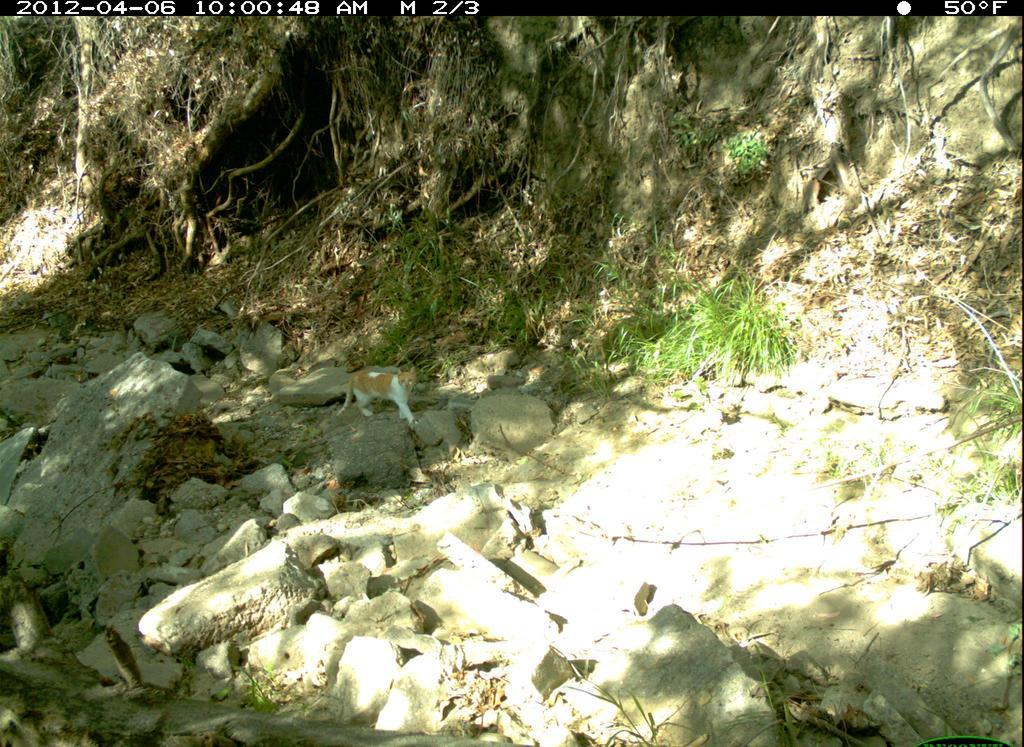cat: (331, 361, 431, 434)
